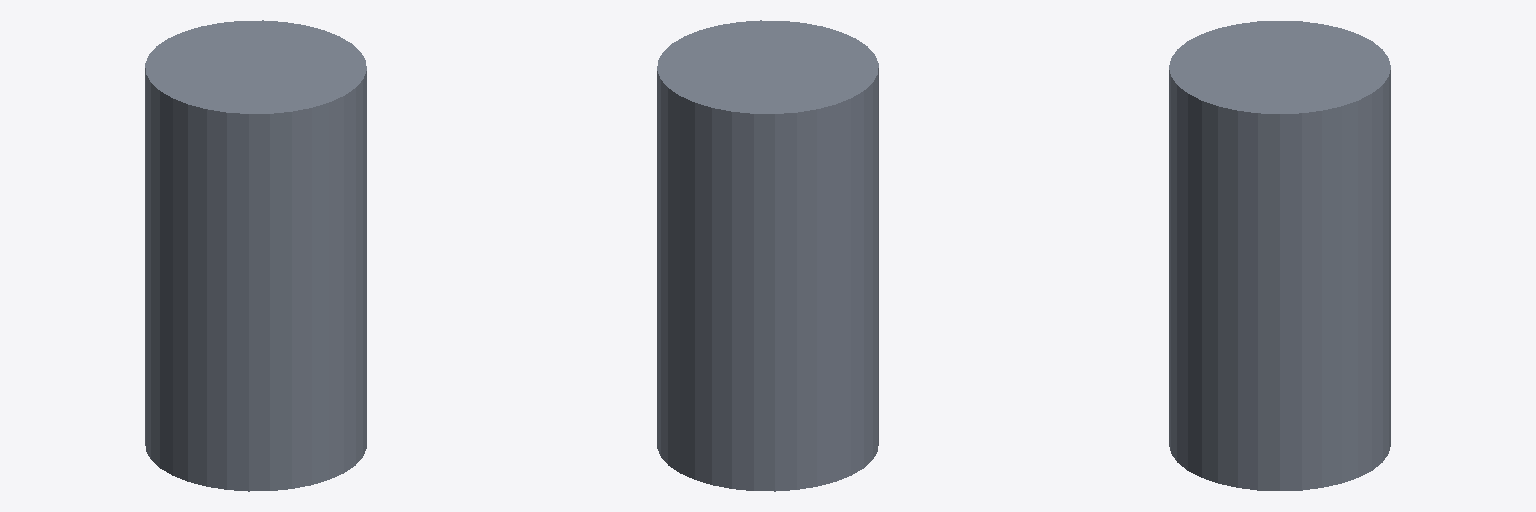
URDF robot description (navigation_pillar):
<?xml version="1.0"?>
<robot name="navigation_pillar">
  <link name="pillar">
    <visual><geometry><cylinder radius="0.4" length="1.5"/></geometry><material name="grey"><color rgba="0.55 0.58 0.63 1"/></material></visual>
    <collision><geometry><cylinder radius="0.4" length="1.5"/></geometry></collision>
    <inertial><mass value="10"/><inertia ixx="1" iyy="1" izz="1" ixy="0" ixz="0" iyz="0"/></inertial>
  </link>
</robot>

--- What the picture shows (computed from the rendered views, not written in the file) ---
Views: 3 orthographic renders of the robot side by side, from view 1: azimuth 30°, elevation 25°; view 2: azimuth 150°, elevation 25°; view 3: azimuth 270°, elevation 25°.
Robot: navigation_pillar — 1 links, 0 joints (none); root link pillar; default pose: all joints at 0.
Visible links, largest first — view 1: pillar; view 2: pillar; view 3: pillar.
Boxes of the visible links, x1,y1,x2,y2 form: pillar: (145,20,366,491); pillar: (657,20,878,491); pillar: (1169,21,1390,490).
Size in the robot's own frame: 0.8 by 0.8 by 1.5 metres.
Geometry: primitives only (box / cylinder / sphere), no mesh files.
